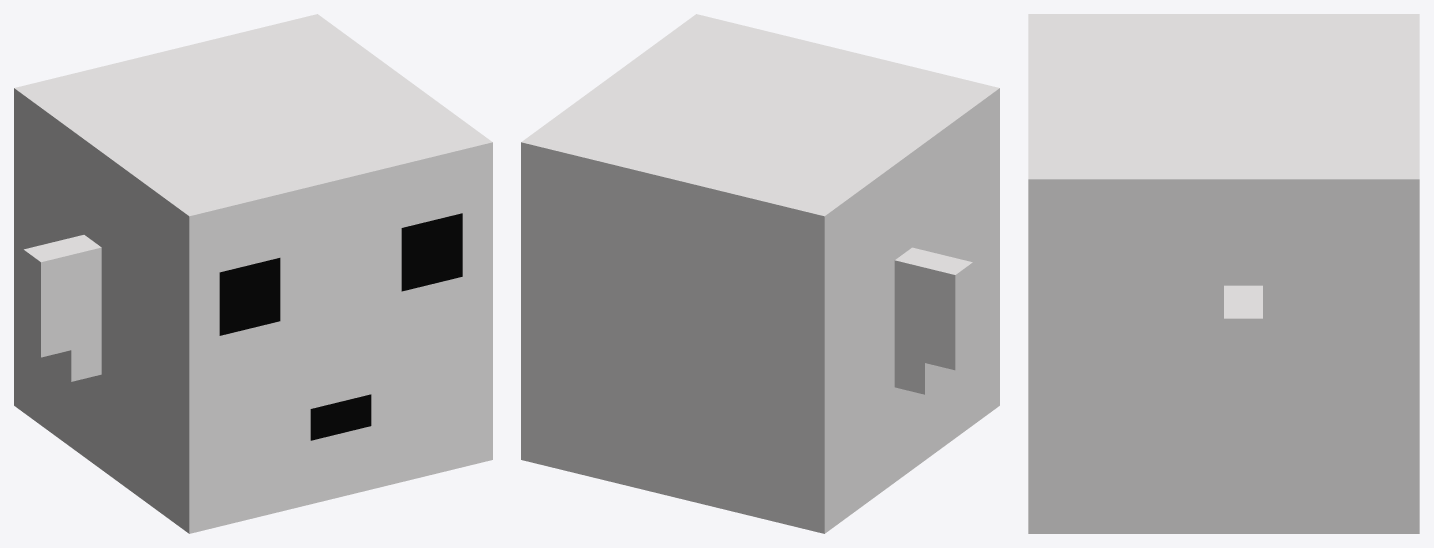
The model's file is FloatingHead_Neutral.obj.
3 views of the same model, side by side, from view 1: azimuth 30°, elevation 25°; view 2: azimuth 150°, elevation 25°; view 3: azimuth 270°, elevation 25° (orthographic). The views are drawn at different scales.
Bounding box in the file's own units: 1.4 × 1 × 1.
1 material, 1 textured.
